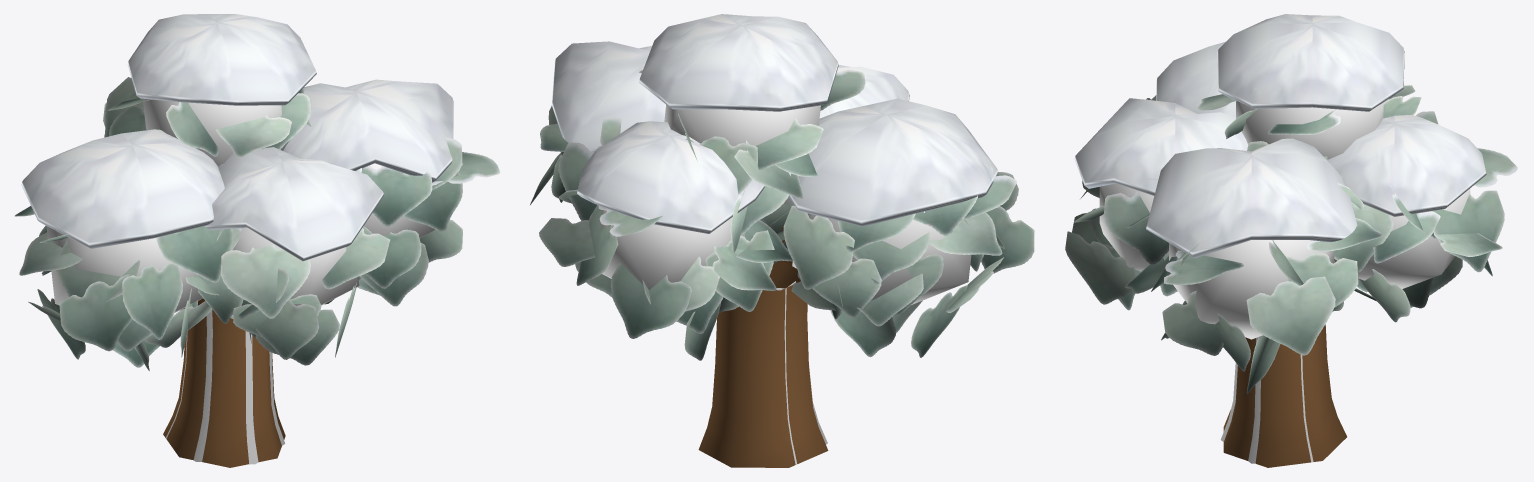
File: tree-wide-winter.lod1.glb
The picture shows the model from 3 angles, left to right: view 1: azimuth 30°, elevation 25°; view 2: azimuth 150°, elevation 25°; view 3: azimuth 270°, elevation 25°; orthographic projection. The views are drawn at different scales.
Parts seen in each view (by area): view 1: Crown, Trunk, Hull, Stem; view 2: Crown, Trunk, Hull, Stem; view 3: Crown, Hull, Trunk, Stem.
Boxes of the visible parts, x1,y1,x2,y2 form: Crown: (15,14,500,370); Trunk: (163,298,285,467); Hull: (46,98,434,312); Stem: (165,309,285,464); Crown: (530,14,1034,360); Trunk: (698,226,828,467); Hull: (601,104,971,304); Stem: (776,281,827,464); Crown: (1065,14,1517,393); Hull: (1099,99,1470,339); Trunk: (1223,324,1346,467); Stem: (1220,337,1313,463).
Bounding box in the file's own units: 3.67 × 3.21 × 3.16.
4 materials, 1 textured.
